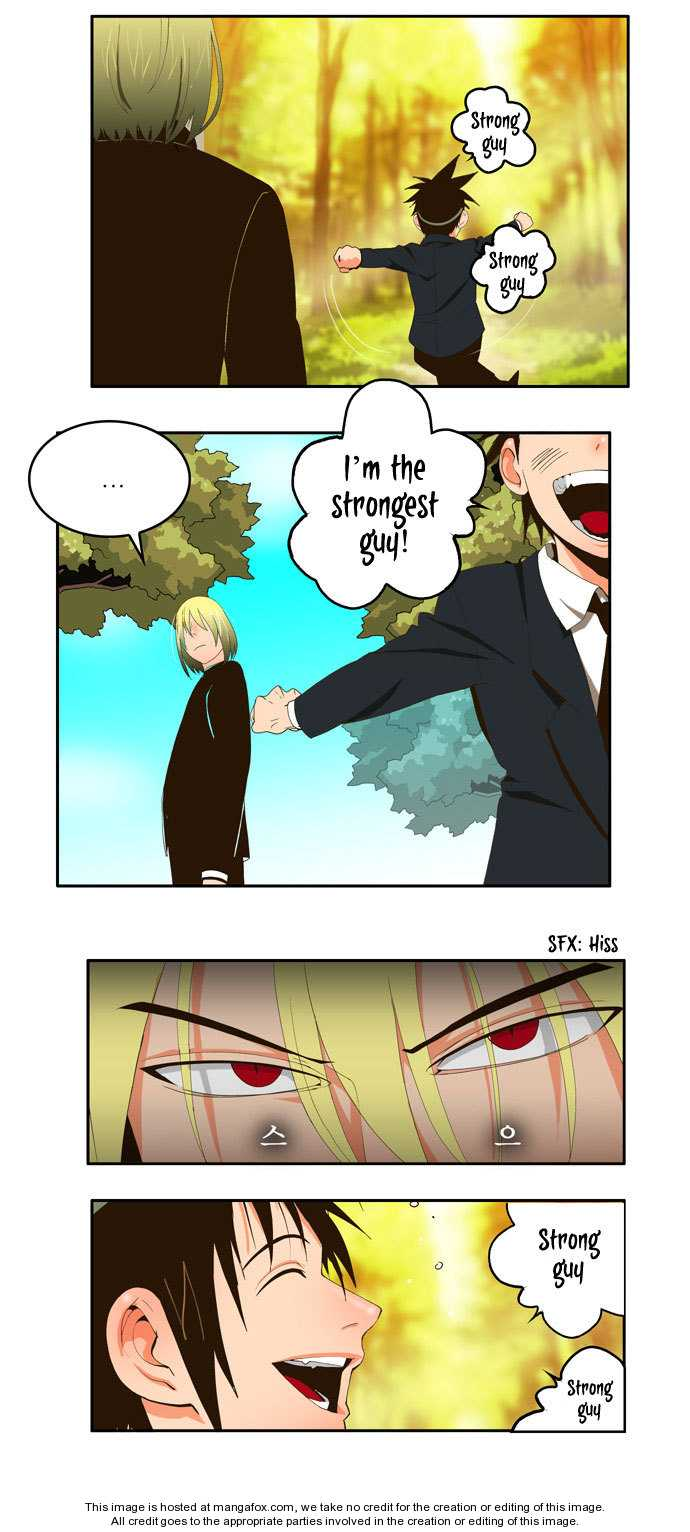bubble: (288, 380, 492, 609), (29, 421, 190, 562), (489, 1200, 627, 1337), (513, 1345, 625, 1433), (472, 224, 556, 313), (451, 86, 536, 173)
